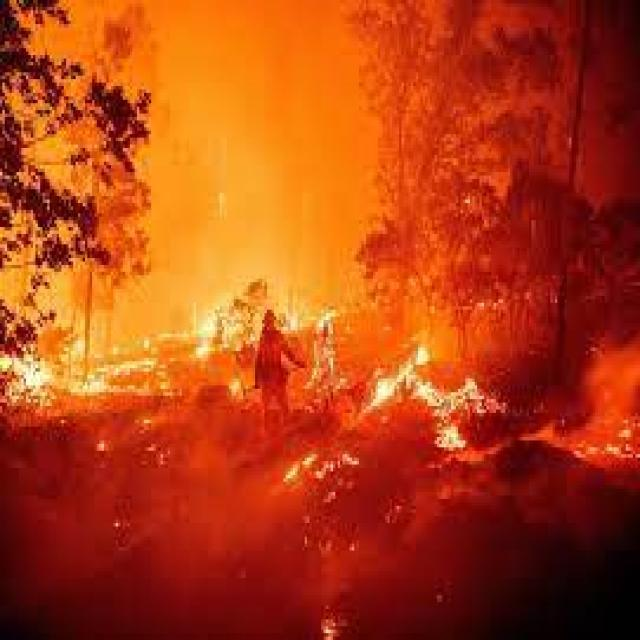Fire: (22, 346, 632, 458)
Smoke: (133, 0, 571, 313)
